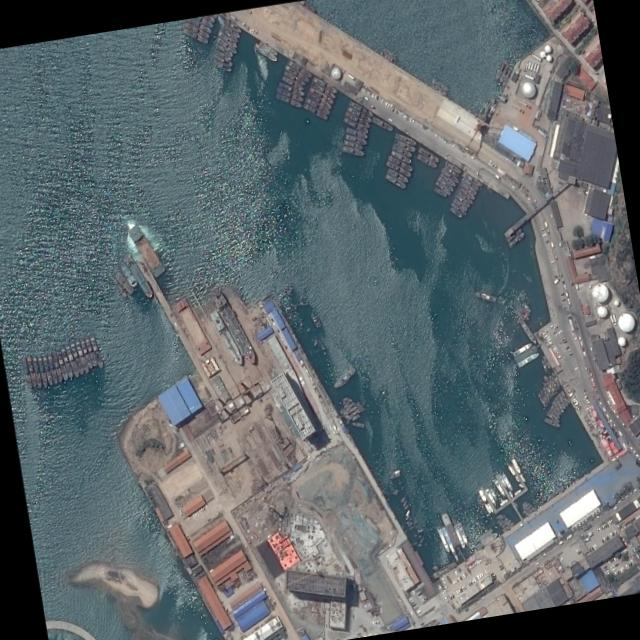large-vehicle: (517, 100, 530, 108), (511, 104, 523, 112), (537, 128, 546, 137)
ship: (210, 290, 258, 366), (127, 223, 164, 277), (209, 310, 244, 366), (122, 253, 153, 298), (440, 513, 460, 549), (73, 338, 89, 373), (332, 366, 356, 389), (68, 340, 84, 374), (64, 342, 79, 377), (88, 333, 103, 368), (386, 153, 412, 173), (286, 59, 312, 79), (304, 96, 330, 116), (308, 85, 334, 105), (58, 344, 73, 378), (113, 270, 134, 294), (252, 42, 277, 62), (306, 90, 331, 110), (518, 319, 537, 345), (311, 75, 337, 94), (342, 115, 368, 134), (474, 530, 498, 550), (348, 99, 373, 118), (344, 110, 369, 129), (284, 64, 309, 83), (310, 80, 335, 99), (183, 21, 209, 39), (78, 337, 93, 368), (277, 80, 304, 97), (119, 262, 137, 287), (431, 560, 456, 578), (385, 160, 410, 178), (346, 105, 371, 123), (274, 92, 302, 108), (182, 27, 208, 44), (440, 526, 455, 555), (276, 87, 303, 103), (303, 102, 327, 120), (186, 17, 211, 34), (83, 336, 97, 366), (214, 35, 236, 54), (55, 349, 68, 381), (386, 166, 409, 184), (417, 145, 439, 163), (283, 69, 305, 87), (281, 74, 304, 91), (216, 30, 237, 48), (384, 172, 406, 189), (371, 115, 393, 132), (41, 354, 53, 385), (50, 351, 62, 382), (516, 351, 539, 367), (31, 355, 42, 388), (439, 166, 459, 184), (416, 152, 437, 169), (436, 527, 450, 552), (393, 131, 416, 146), (25, 355, 36, 386), (36, 356, 47, 387), (472, 527, 492, 544), (343, 132, 367, 146), (46, 354, 57, 384), (393, 138, 415, 153), (452, 524, 465, 549), (435, 175, 454, 192), (454, 187, 473, 204), (219, 27, 238, 44), (512, 341, 532, 357), (391, 143, 412, 158), (21, 357, 31, 388), (456, 184, 475, 200), (462, 171, 481, 187), (221, 23, 240, 39), (222, 17, 241, 33), (258, 40, 277, 56), (542, 374, 557, 394), (390, 149, 410, 164), (344, 126, 367, 139), (434, 179, 451, 196), (438, 171, 456, 187), (458, 179, 476, 195), (456, 522, 468, 546), (474, 289, 496, 302), (214, 42, 233, 57), (340, 144, 363, 156), (451, 196, 468, 212), (453, 192, 470, 208), (508, 231, 525, 247), (505, 226, 522, 242), (449, 201, 467, 216), (461, 176, 479, 191), (500, 65, 512, 87), (431, 77, 448, 92), (497, 62, 509, 83), (481, 97, 495, 115), (192, 16, 213, 28), (342, 138, 363, 150), (443, 163, 459, 178), (444, 160, 461, 174), (214, 53, 233, 65), (494, 61, 505, 80), (430, 83, 446, 96), (215, 50, 232, 62), (501, 473, 512, 491), (215, 60, 231, 72), (494, 480, 505, 497), (485, 488, 496, 505), (547, 373, 558, 390), (556, 392, 568, 407), (542, 381, 554, 396), (543, 416, 559, 427), (448, 206, 462, 218), (432, 186, 446, 198), (551, 399, 563, 413), (545, 411, 559, 423), (510, 458, 521, 473), (559, 389, 570, 404), (486, 102, 497, 117), (553, 396, 565, 409), (116, 283, 127, 297), (536, 391, 546, 406), (550, 371, 560, 385), (541, 354, 550, 369), (548, 407, 559, 419), (501, 521, 513, 532), (550, 404, 561, 415), (521, 301, 531, 313), (477, 489, 486, 502), (498, 475, 507, 488), (539, 389, 548, 402), (541, 386, 550, 399), (500, 518, 511, 528), (519, 309, 529, 320), (521, 504, 532, 514), (540, 359, 548, 372), (506, 464, 515, 475), (516, 310, 525, 321), (524, 507, 535, 516), (351, 421, 364, 428), (498, 516, 508, 525), (483, 503, 491, 514), (521, 305, 529, 316), (489, 488, 496, 500), (496, 514, 505, 523), (521, 502, 530, 511), (486, 502, 493, 512), (518, 473, 525, 482), (350, 414, 359, 421), (499, 498, 507, 505), (520, 499, 527, 506), (513, 488, 520, 495), (495, 512, 502, 519), (513, 475, 519, 482), (508, 490, 512, 497), (518, 483, 522, 488)
storage-tank: (615, 311, 635, 333), (590, 282, 609, 303), (520, 80, 536, 99), (329, 66, 341, 80), (595, 304, 607, 317), (616, 335, 625, 346), (543, 44, 551, 53), (538, 50, 545, 57), (545, 53, 551, 61), (613, 299, 619, 306)
